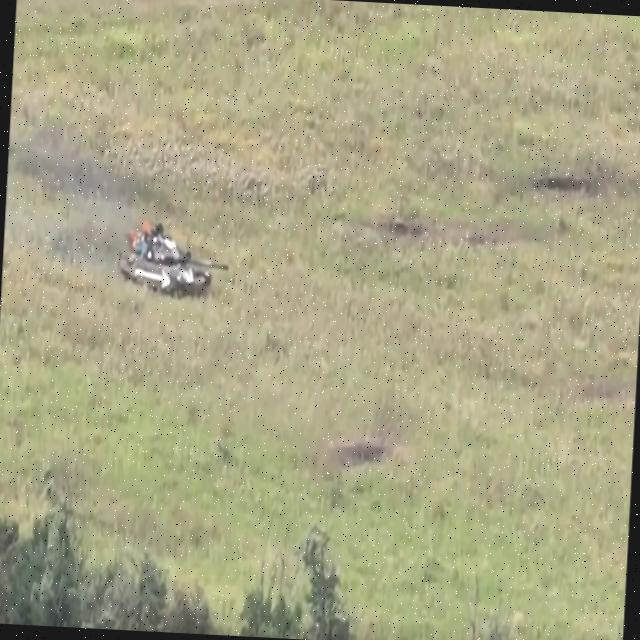MBT: (114, 218, 234, 304)
